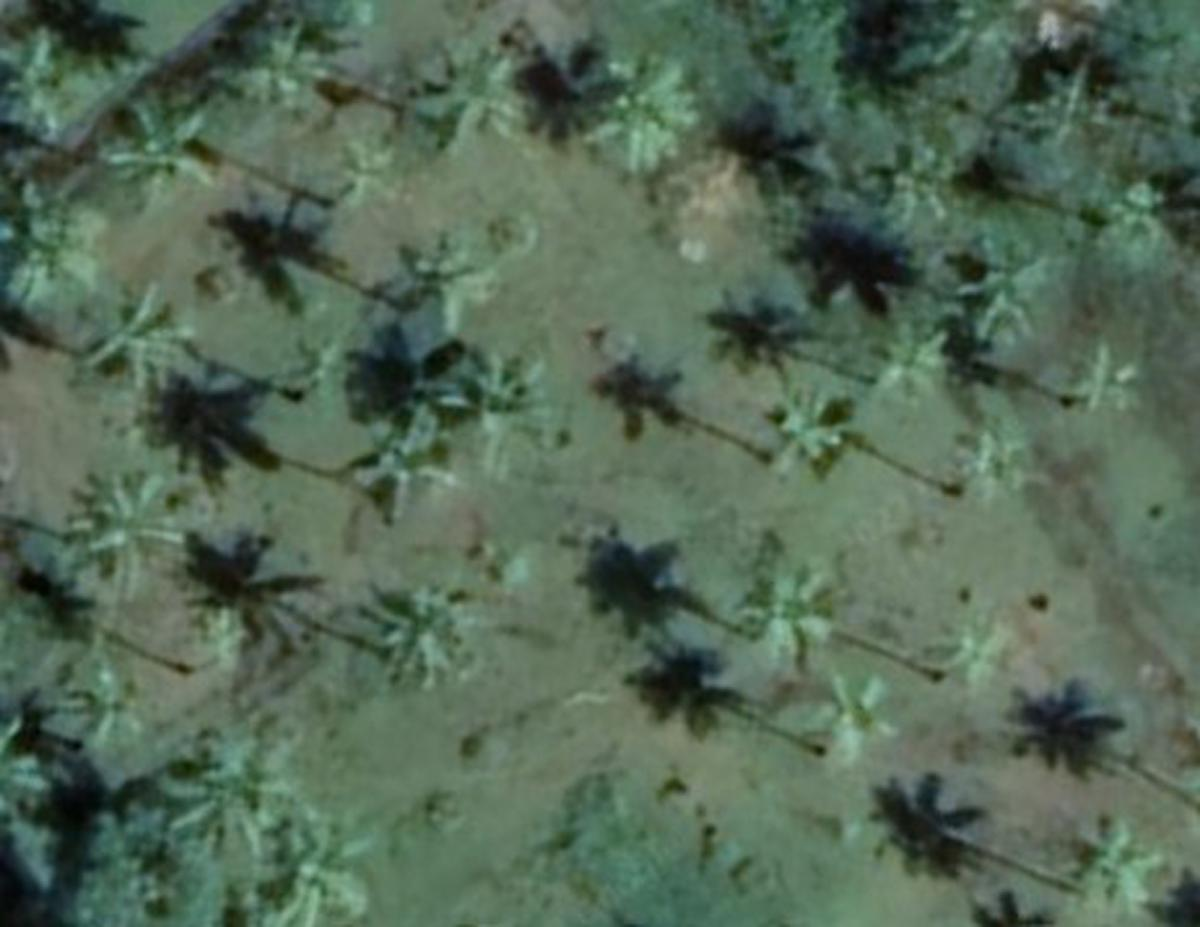coconut: (158, 732, 324, 864), (67, 472, 192, 597), (332, 407, 470, 519), (742, 534, 846, 672), (111, 101, 236, 212), (449, 347, 571, 459), (75, 285, 200, 394), (2, 189, 116, 306), (1064, 807, 1176, 924), (262, 817, 379, 927), (587, 54, 693, 173), (368, 579, 480, 690), (423, 51, 529, 148), (864, 140, 963, 231), (397, 228, 498, 316), (875, 306, 958, 399), (1057, 342, 1137, 433), (958, 423, 1054, 498), (818, 669, 898, 755), (968, 249, 1036, 334), (766, 389, 841, 457)
